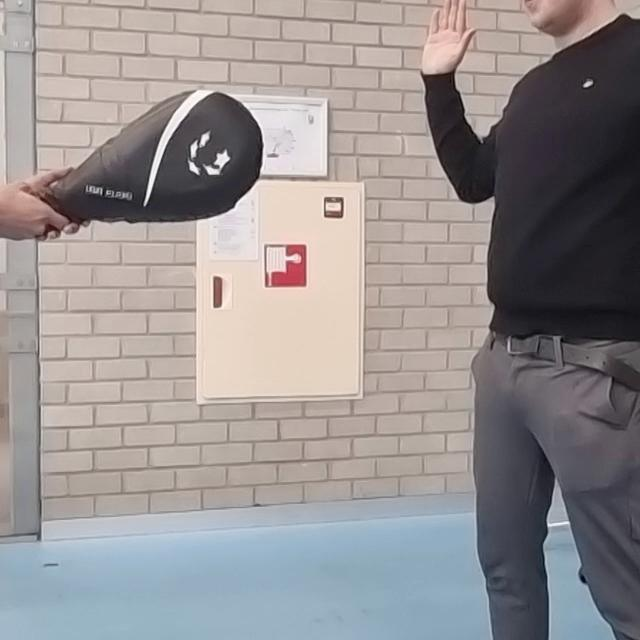paddle: (40, 89, 261, 223)
